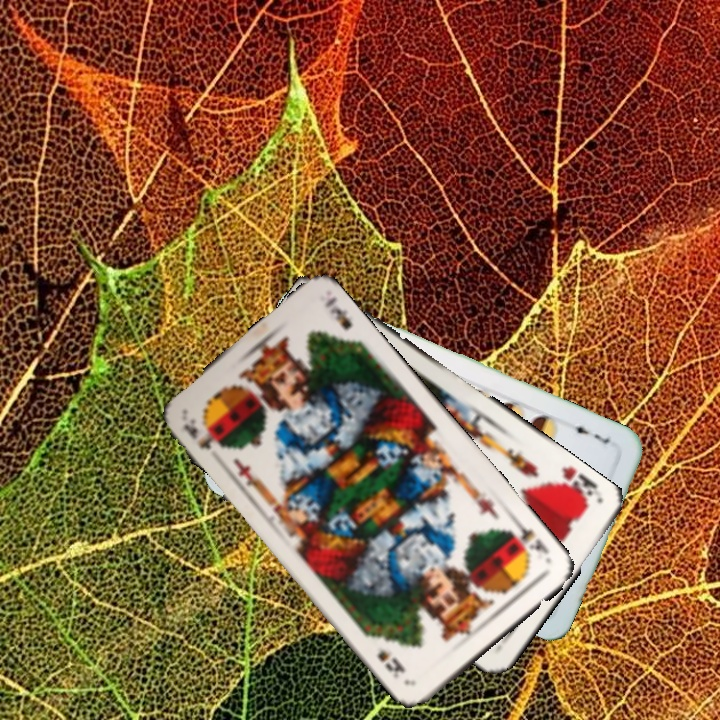E7: (567, 418, 613, 447)
HK: (550, 462, 600, 508)
SK: (505, 517, 553, 566), (179, 414, 225, 454)
